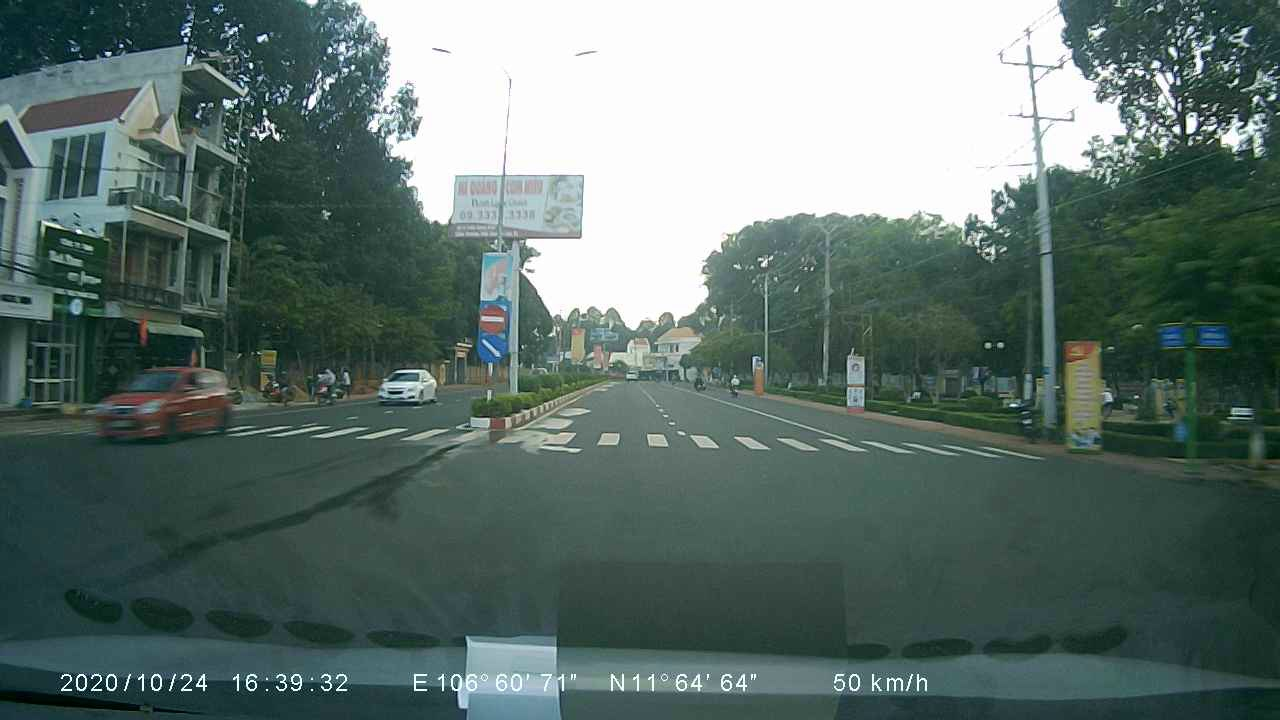Cam di nguoc chieu: (475, 304, 510, 331)
Huong di phai re phai: (473, 331, 508, 361)
